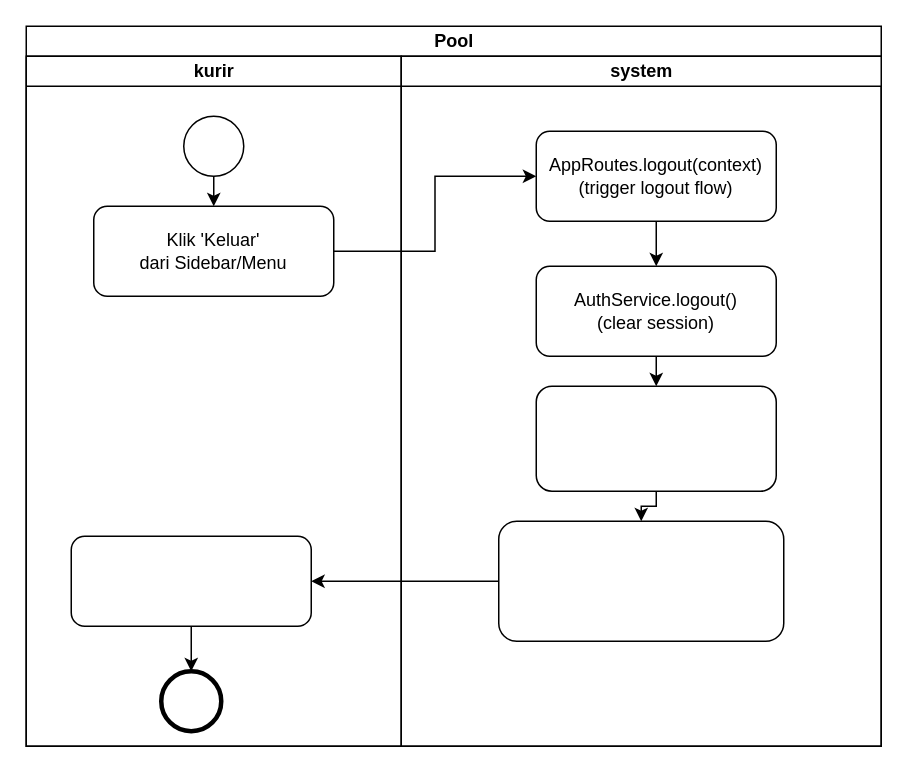
The diagram is 908 pixels wide and 773 high, and some of its shapes have lost their labels. Here are the shapes that lost their labels. From the top down, the centre of each, then its label:
At point (655, 438): "Clear Local State: - Provider data - Auth token - User session".
At point (190, 580): "Snackbar: 'Anda telah keluar'".
At point (640, 580): "Navigator .pushNamedAndRemoveUntil (AppRoutes.login, (route) => false)".
